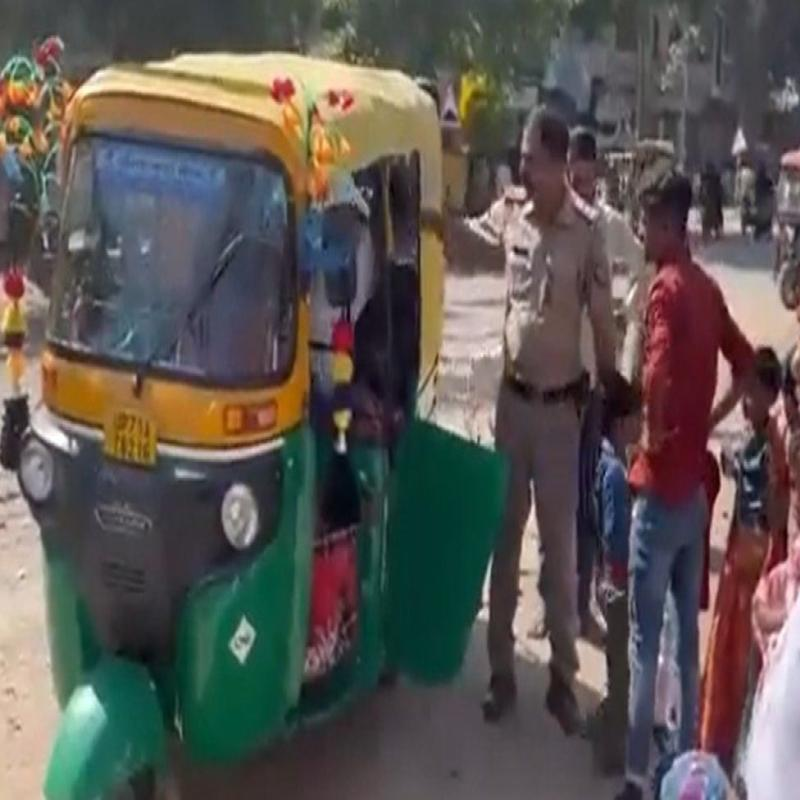auto: (30, 55, 435, 768)
